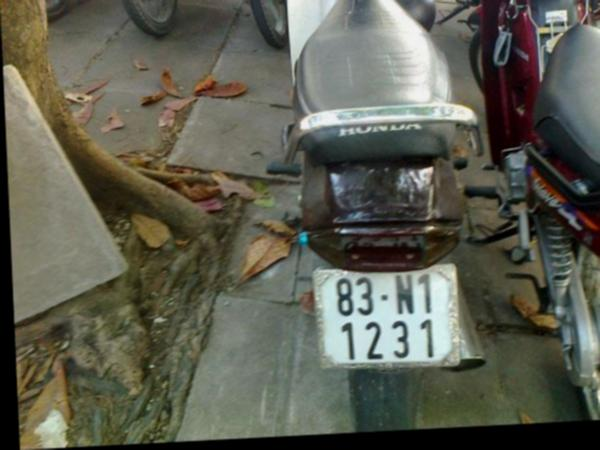License_Plate: (315, 264, 463, 371)
